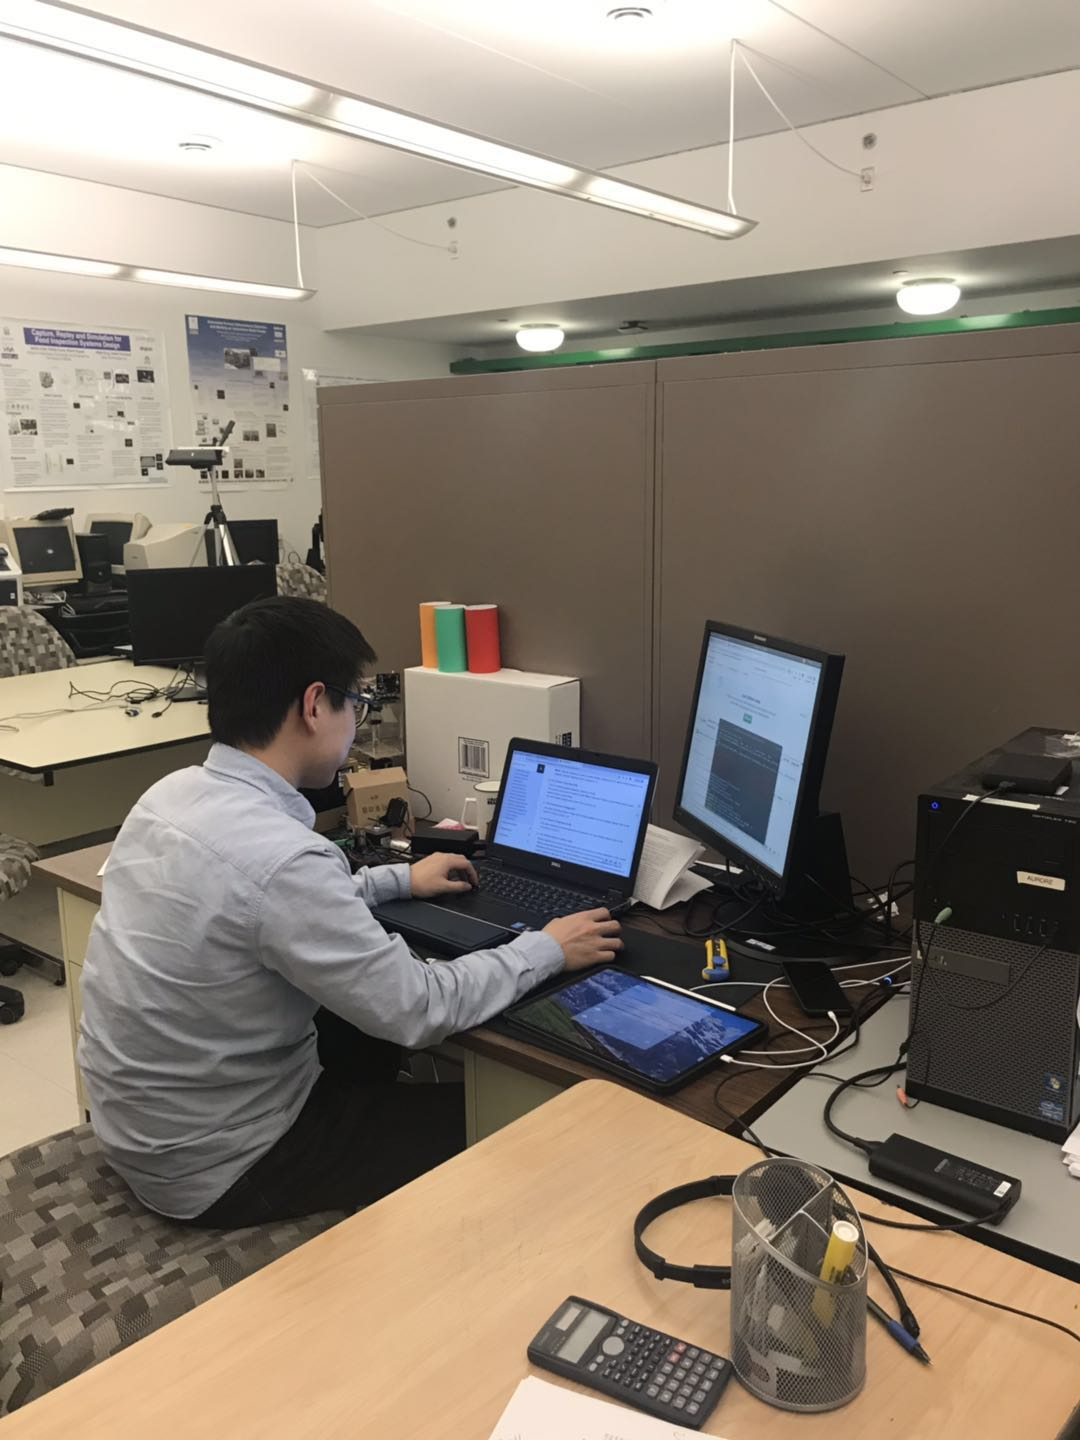person: (79, 598, 630, 1219)
tvmonitor: (671, 617, 879, 961)
